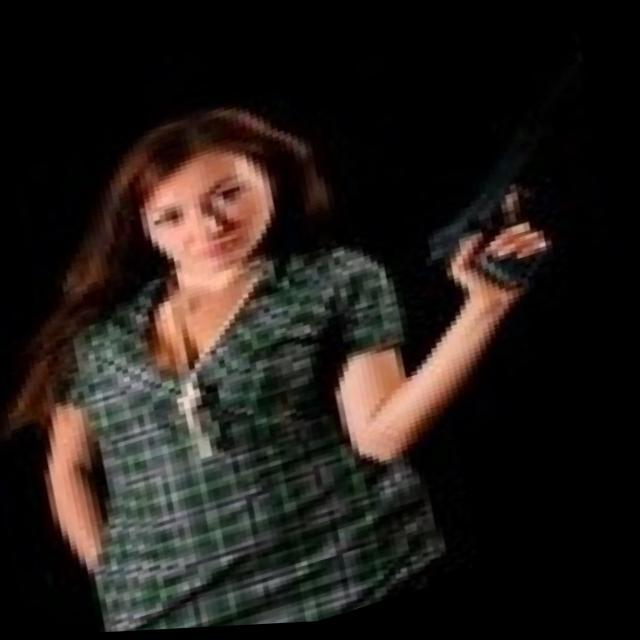weapon: (410, 164, 572, 326)
